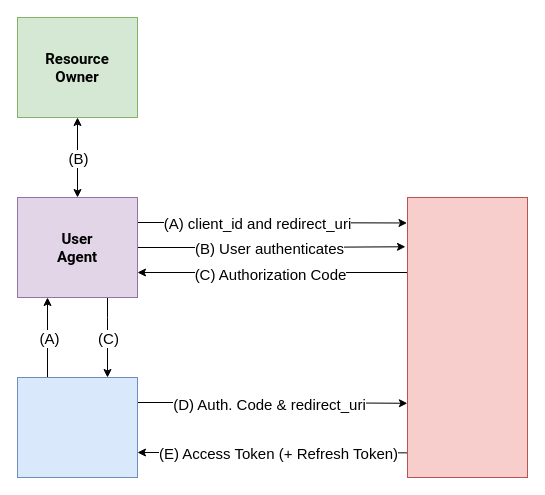
Some shapes in this 545 by 495 pixel diagram are drawn without their labels. Each missing label, with the box of its shape:
Authorization Server: (406, 196, 528, 478)
Client: (16, 376, 138, 478)
